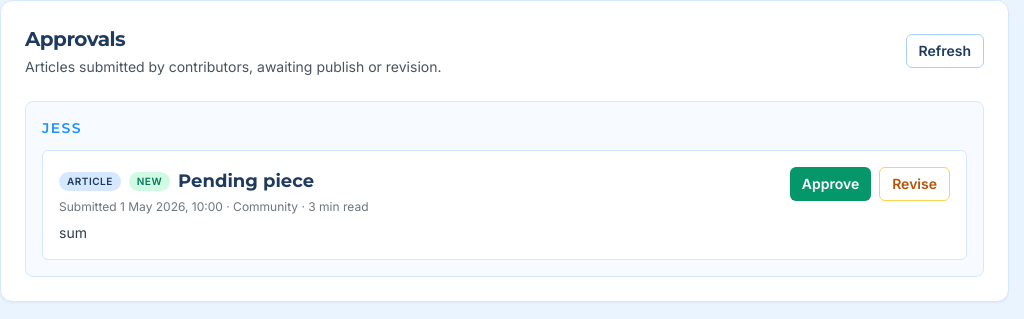
it: ApprovalsQueue › approves (publishes) an article and removes it
Click the button "Approve" at (830,184), box [790,167,871,201]
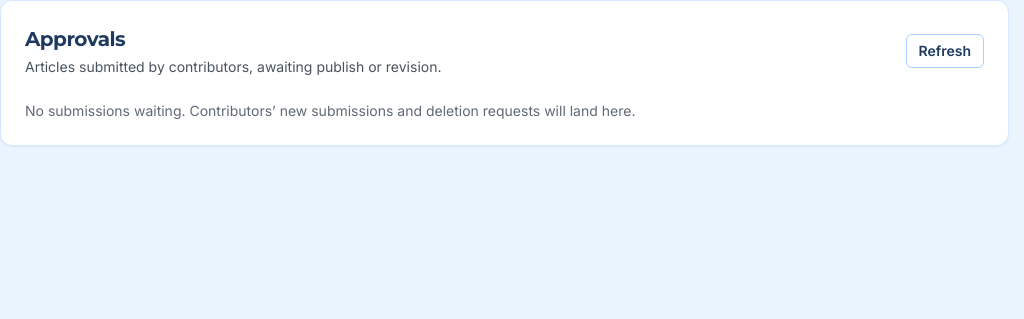
Expected: the text "Pending piece" is gone
